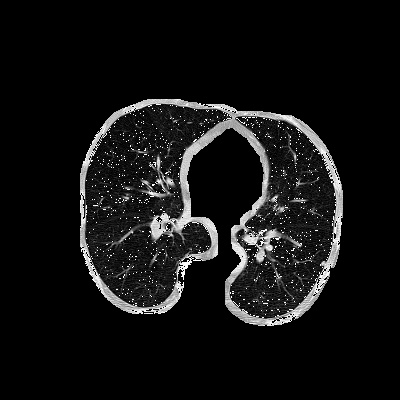PN: (321, 261, 325, 265)
